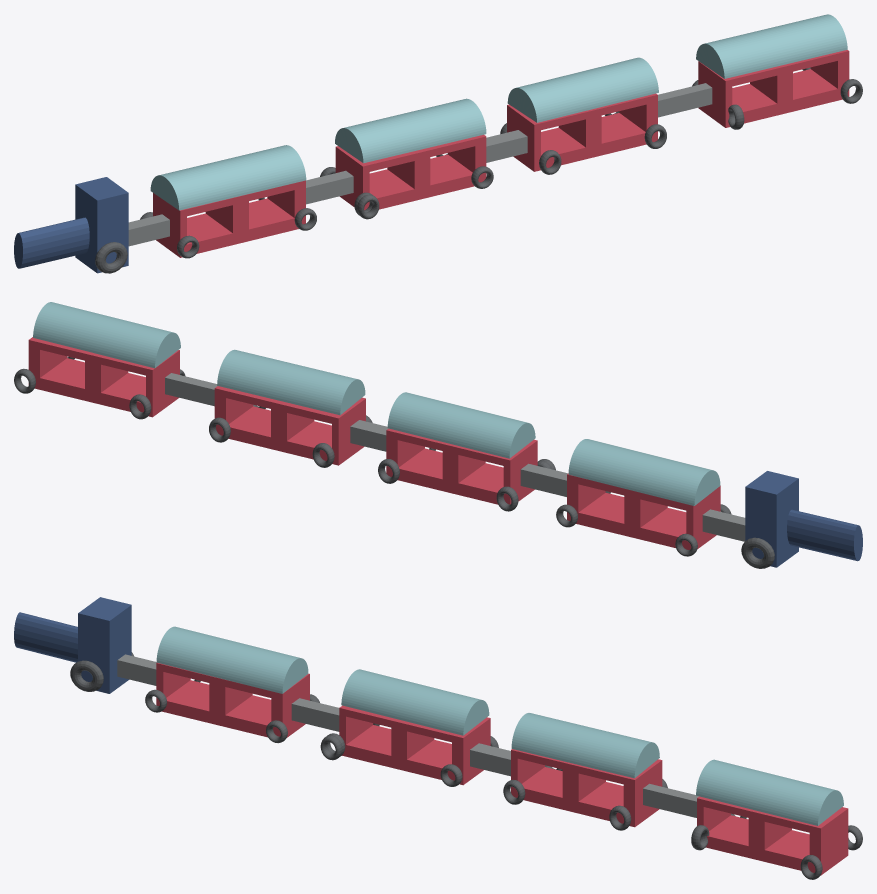
Rendered from Fantastic Juttuli.glb.
3 renders of one model, top to bottom at view 1: azimuth 30°, elevation 25°; view 2: azimuth 150°, elevation 25°; view 3: azimuth 330°, elevation 25°, orthographic.
Parts seen in each view (by area): view 1: Mesh_Mesh_head_geo.001_lambert2SG.001; view 2: Mesh_Mesh_head_geo.001_lambert2SG.001; view 3: Mesh_Mesh_head_geo.001_lambert2SG.001.
Boxes of the visible parts, left/top/right/bottom form: Mesh_Mesh_head_geo.001_lambert2SG.001: left=14, top=14, right=862, bottom=273; Mesh_Mesh_head_geo.001_lambert2SG.001: left=14, top=302, right=862, bottom=568; Mesh_Mesh_head_geo.001_lambert2SG.001: left=14, top=597, right=862, bottom=879.
Bounding box in the file's own units: 366 × 32 × 36.7.
